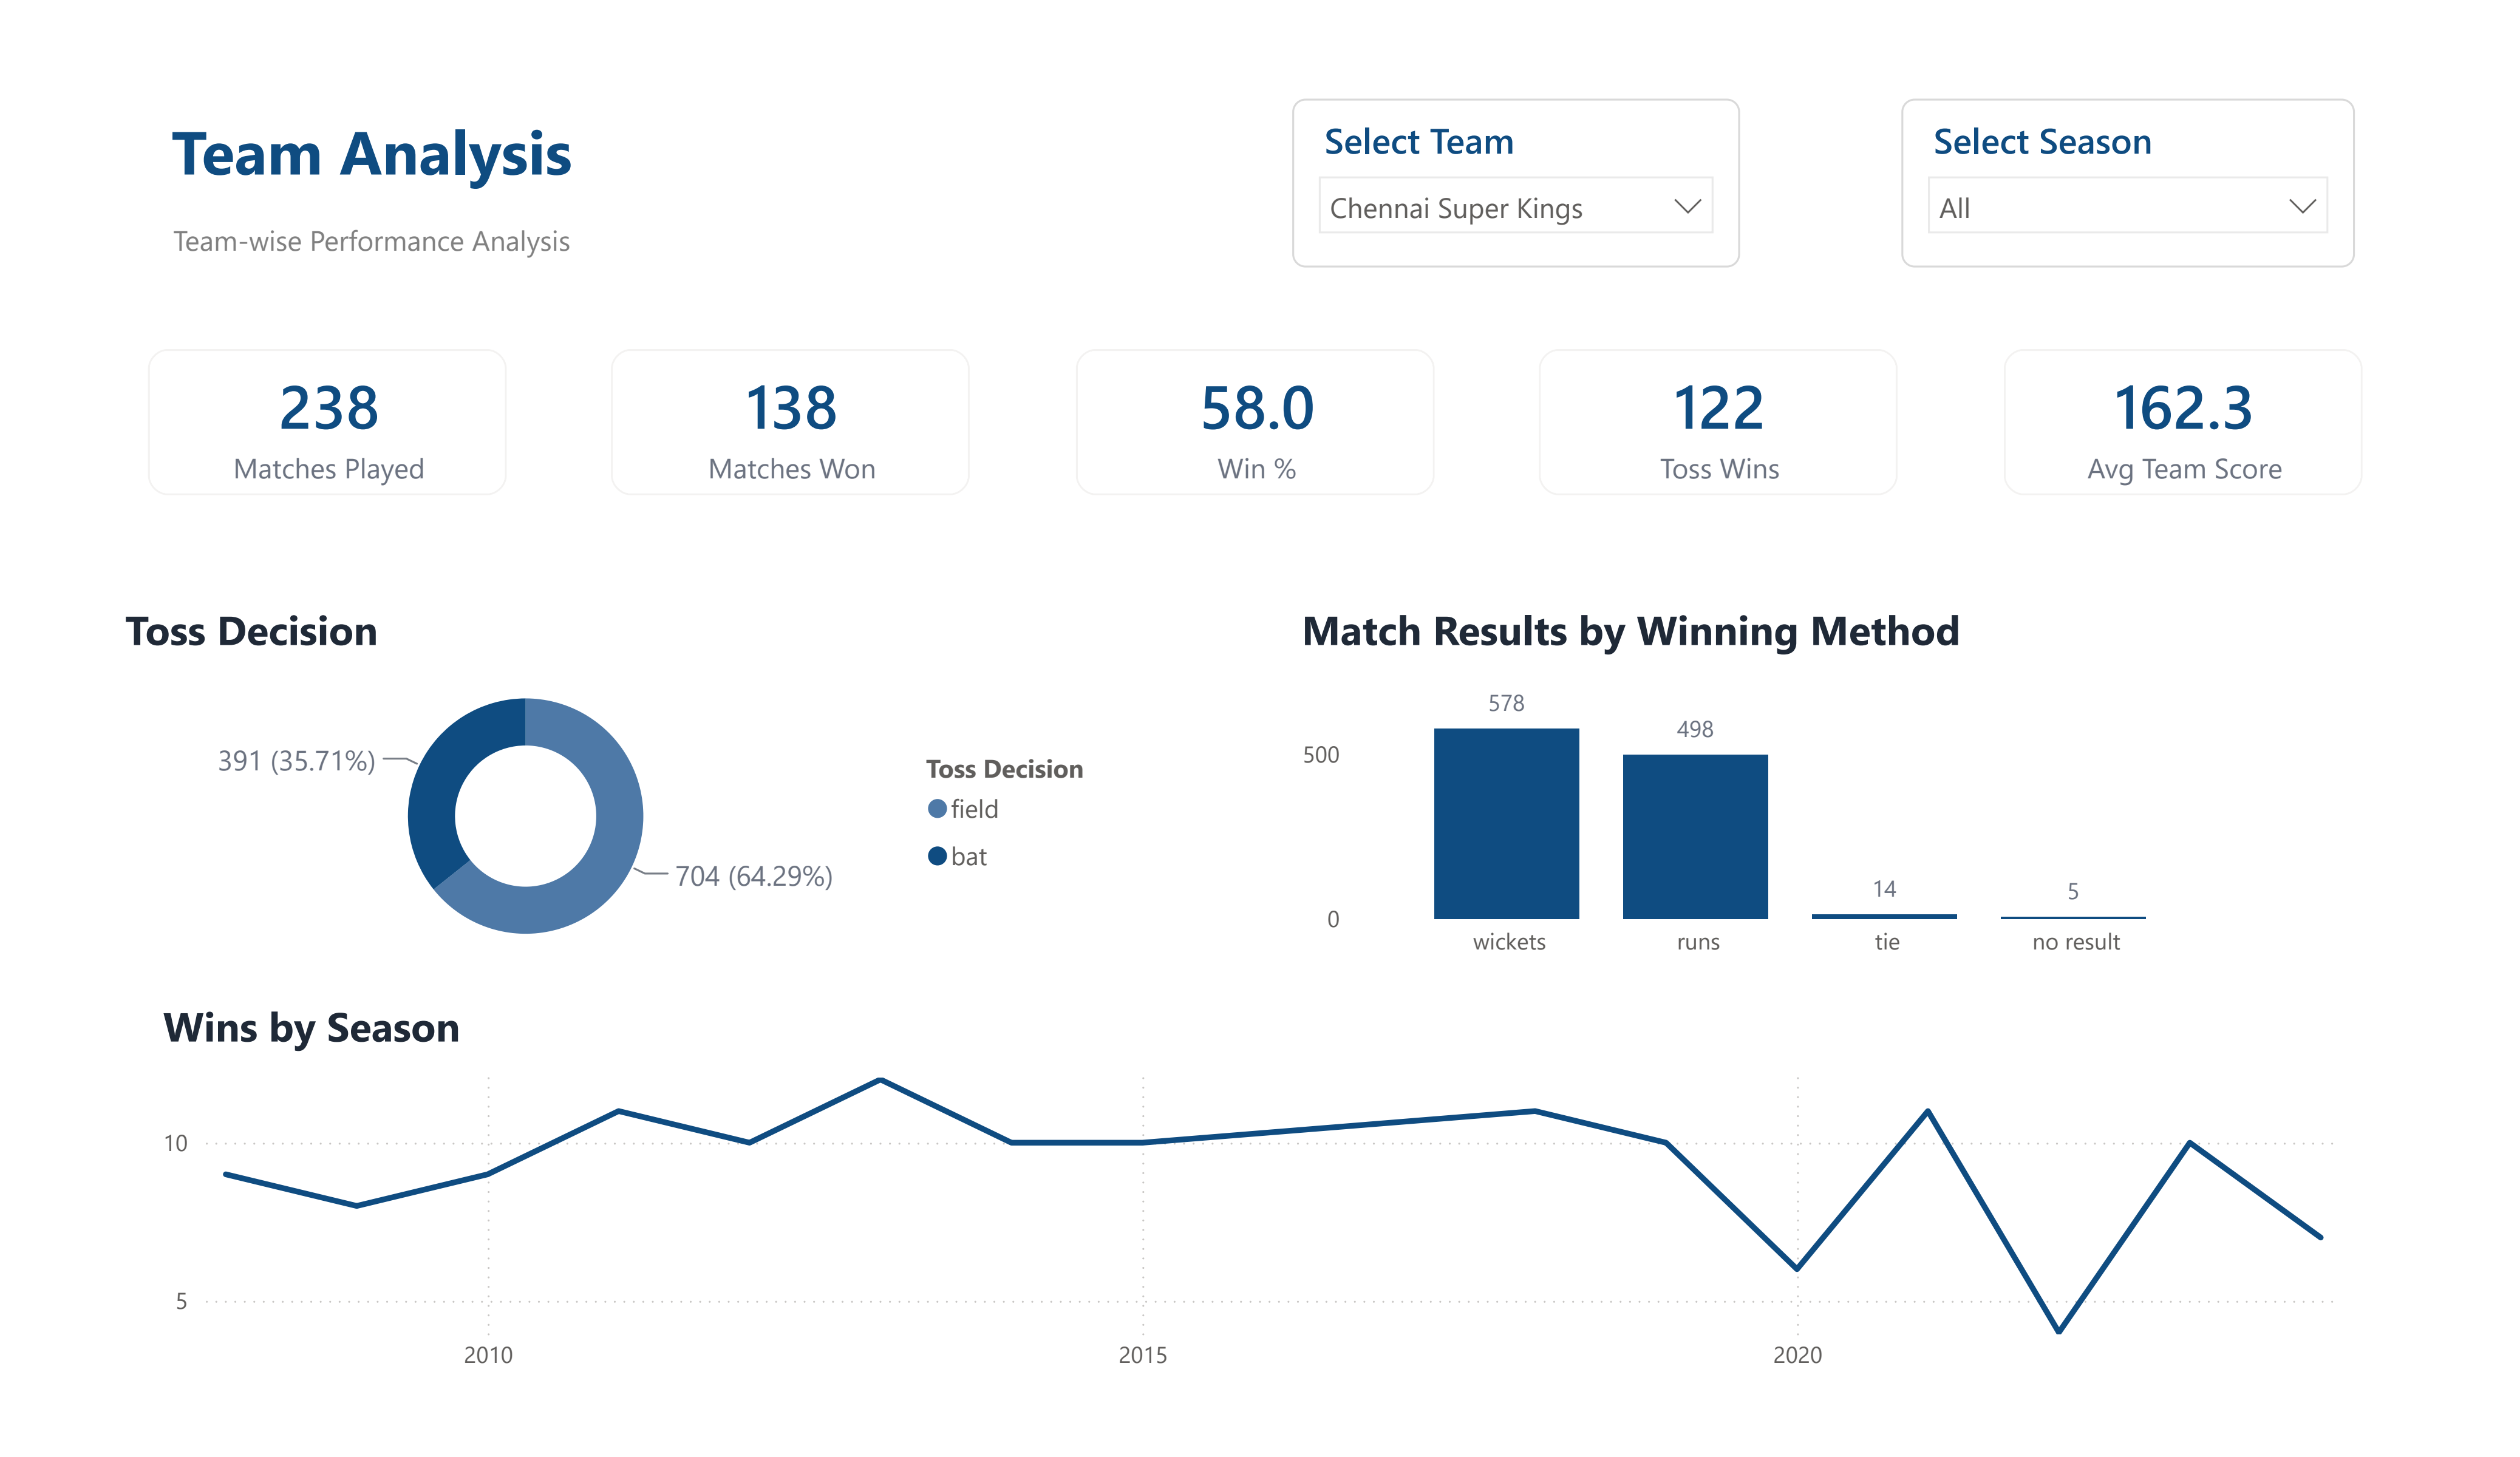

The dashboard page shown, as its layout file describes it:
{"tool":"powerbi","page":{"name":"Team Analysis","canvas":[1280,720],"ordinal":1},"visuals":[{"type":"textbox","box":[56.7,28.3,230,56.7],"z":0},{"type":"textbox","box":[56.7,86.7,230,31.7],"z":1000},{"type":"slicer","fields":{"Values":["Dim Team.Team"]},"box":[656.7,28.3,236.7,88.3],"z":2000},{"type":"slicer","fields":{"Values":["Dim Date.Year"]},"box":[978.3,28.3,238.3,88.3],"z":3000},{"type":"cardVisual","fields":{"Data":["_Measures.Matches Played"]},"box":[36.7,143.3,223.3,111.7],"z":4000},{"type":"cardVisual","fields":{"Data":["_Measures.Win %"]},"box":[525.8,143.3,223.3,111.7],"z":5000},{"type":"cardVisual","fields":{"Data":["_Measures.Toss Wins"]},"box":[770.4,143.3,223.3,111.7],"z":6000},{"type":"cardVisual","fields":{"Data":["_Measures.Avg Team Score"]},"box":[1015,143.3,223.3,111.7],"z":7000},{"type":"donutChart","title":"Toss Decision","fields":{"Category":["matches_clean.toss_decision"],"Y":["CountNonNull(matches_clean.id)"]},"box":[36.7,293.3,533.3,196.7],"z":8000},{"type":"clusteredColumnChart","title":"Match Results by Winning Method","fields":{"Category":["matches_clean.result"],"Y":["CountNonNull(matches_clean.id)"]},"box":[656.7,293.3,498.3,196.7],"z":9000},{"type":"lineChart","title":"Wins by Season","fields":{"Category":["Dim Date.Year"],"Y":["_Measures.Wins by Season"]},"box":[56.7,501.7,1160,206.7],"z":10000},{"type":"cardVisual","fields":{"Data":["_Measures.Matches Won"]},"box":[281.2,143.3,223.3,111.7],"z":11000}]}

Visuals, with their boxes on the page's 1280x720 design canvas (x1, y1, x2, y2). These are canvas units, not pixel positions in the 2520x1457 screenshot, which may show the page scaled, cropped or inside an application window:
textbox: rect(57, 28, 287, 85)
textbox: rect(57, 87, 287, 118)
slicer - Dim Team.Team: rect(657, 28, 893, 117)
slicer - Dim Date.Year: rect(978, 28, 1217, 117)
cardVisual - _Measures.Matches Played: rect(37, 143, 260, 255)
cardVisual - _Measures.Win %: rect(526, 143, 749, 255)
cardVisual - _Measures.Toss Wins: rect(770, 143, 994, 255)
cardVisual - _Measures.Avg Team Score: rect(1015, 143, 1238, 255)
"Toss Decision" donutChart: rect(37, 293, 570, 490)
"Match Results by Winning Method" clusteredColumnChart: rect(657, 293, 1155, 490)
"Wins by Season" lineChart: rect(57, 502, 1217, 708)
cardVisual - _Measures.Matches Won: rect(281, 143, 504, 255)
